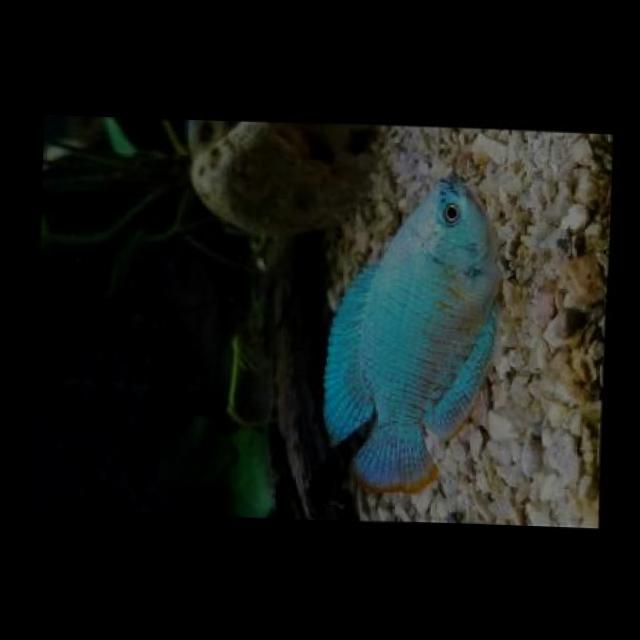Gourami: (310, 170, 518, 502)
